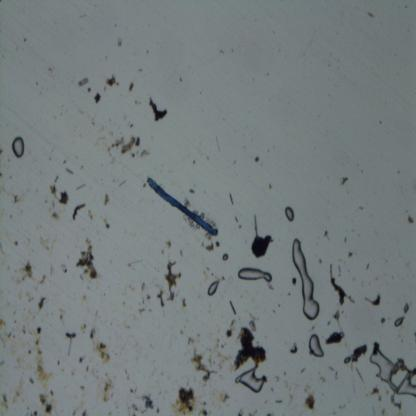Air bubble: (291, 235, 322, 321), (368, 348, 414, 398), (237, 264, 277, 286), (9, 134, 27, 158), (308, 333, 324, 359), (205, 278, 219, 297), (283, 204, 296, 221), (392, 316, 405, 327), (222, 251, 230, 263), (403, 302, 409, 316), (344, 356, 350, 364)
Background material: (232, 325, 272, 371), (31, 324, 56, 384), (173, 383, 214, 416), (100, 133, 151, 158), (249, 213, 275, 262), (328, 263, 356, 306), (75, 236, 99, 284), (233, 363, 269, 394), (188, 346, 217, 381), (88, 327, 114, 366), (210, 333, 233, 373), (146, 91, 170, 125), (165, 258, 181, 306), (0, 318, 18, 352), (396, 356, 416, 382), (36, 388, 56, 413), (101, 371, 118, 400), (50, 184, 70, 207), (61, 328, 77, 353), (70, 201, 87, 223), (303, 383, 316, 411), (14, 262, 34, 280), (351, 343, 368, 363), (102, 73, 122, 89), (13, 378, 25, 403), (364, 291, 382, 307), (142, 392, 156, 412), (326, 329, 344, 344), (390, 392, 403, 412), (38, 234, 51, 254), (370, 383, 384, 401), (153, 288, 165, 308), (217, 388, 229, 406), (0, 390, 9, 412), (11, 192, 25, 204), (101, 215, 112, 230), (227, 318, 235, 338), (328, 365, 339, 379), (77, 76, 91, 87), (24, 406, 39, 416), (102, 192, 112, 206), (59, 305, 66, 324), (37, 296, 46, 310), (228, 300, 236, 315), (92, 92, 102, 104), (25, 290, 34, 303), (290, 341, 298, 355), (128, 403, 138, 414), (182, 198, 192, 209), (52, 211, 62, 222), (188, 221, 200, 230), (318, 370, 326, 383), (38, 272, 46, 285), (60, 261, 68, 274), (207, 218, 217, 228), (204, 242, 214, 252), (346, 250, 356, 260), (249, 320, 258, 331), (127, 78, 134, 92), (341, 176, 349, 188), (253, 152, 261, 164), (332, 311, 341, 321), (198, 210, 207, 220), (162, 238, 172, 247), (248, 311, 258, 320), (65, 167, 75, 176), (275, 396, 286, 404), (180, 295, 188, 306), (140, 281, 148, 292), (88, 207, 94, 221), (186, 336, 196, 344), (131, 98, 141, 106), (324, 229, 330, 242), (408, 215, 416, 224), (249, 407, 257, 416), (291, 276, 298, 286), (374, 341, 379, 355), (136, 308, 146, 315), (76, 184, 87, 190), (229, 194, 235, 205), (80, 408, 88, 416), (116, 37, 123, 46), (21, 325, 28, 334), (338, 262, 342, 277), (204, 233, 212, 240), (368, 9, 375, 17), (159, 248, 166, 256), (337, 402, 345, 409), (380, 405, 386, 414), (80, 293, 87, 300), (78, 354, 84, 362), (131, 388, 139, 394), (380, 316, 386, 324), (236, 410, 244, 416), (365, 262, 371, 270), (177, 74, 183, 82), (13, 239, 19, 247), (55, 172, 59, 184), (80, 324, 86, 332), (42, 197, 48, 204), (62, 157, 68, 164), (344, 235, 348, 245), (266, 411, 274, 416), (233, 215, 238, 223), (86, 366, 91, 374), (187, 188, 195, 193), (136, 67, 144, 72), (79, 384, 85, 390), (215, 242, 221, 248), (181, 216, 188, 221), (156, 406, 160, 414), (72, 407, 76, 415), (127, 261, 132, 267), (290, 396, 296, 401), (412, 332, 416, 339), (180, 249, 184, 256), (79, 165, 84, 170), (142, 183, 147, 188), (269, 182, 272, 190), (141, 298, 145, 304), (147, 295, 151, 301), (0, 146, 3, 154), (283, 370, 287, 375), (302, 368, 306, 373), (86, 87, 90, 92), (145, 50, 150, 54), (320, 258, 323, 264), (327, 320, 330, 326), (238, 224, 242, 228), (192, 160, 196, 164), (243, 144, 246, 149), (30, 378, 33, 383), (0, 169, 2, 176), (272, 387, 274, 393), (273, 309, 276, 313), (58, 360, 60, 366), (277, 304, 281, 307), (29, 350, 32, 354), (314, 326, 314, 330)
Cotton: (147, 174, 220, 236)
